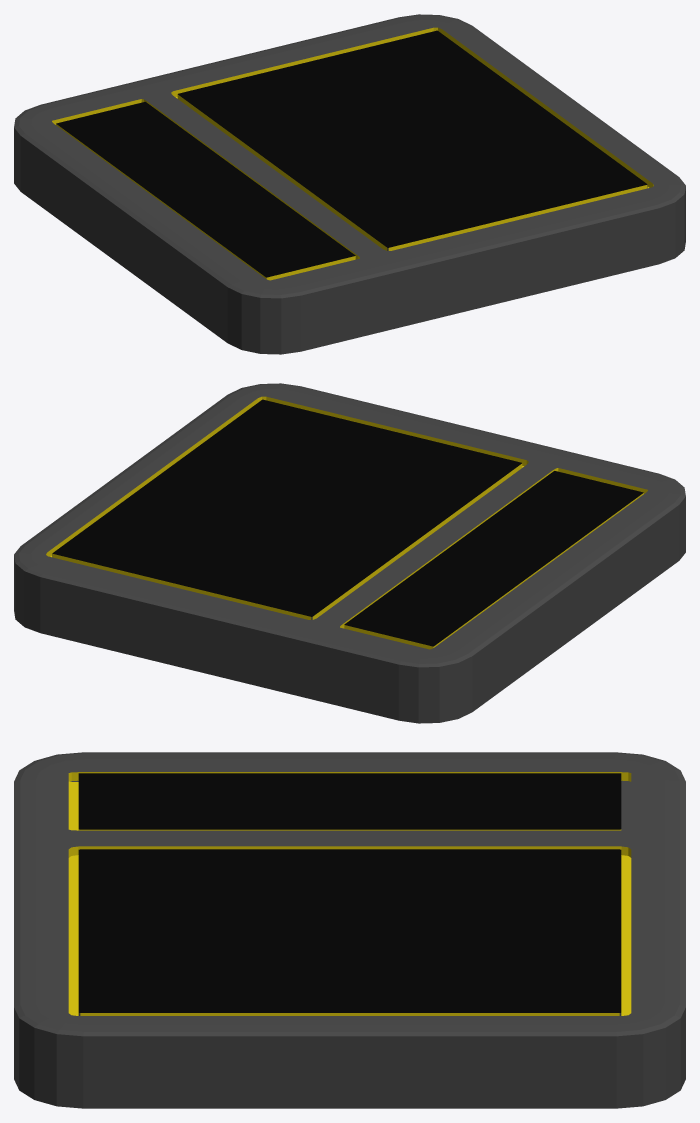
The model's file is platform_z3.fbx.
3 views of the same model, one above another, from view 1: azimuth 30°, elevation 25°; view 2: azimuth 150°, elevation 25°; view 3: azimuth 270°, elevation 25° (orthographic). The views are drawn at different scales.
Visible parts, largest first — view 1: Cube.002; view 2: Cube.002; view 3: Cube.002.
Boxes of the visible parts, x1,y1,x2,y2 form: Cube.002: [14, 14, 685, 354]; Cube.002: [14, 383, 685, 723]; Cube.002: [14, 752, 685, 1108].
Size of the model in its own units: 679 by 83.28 by 679.
